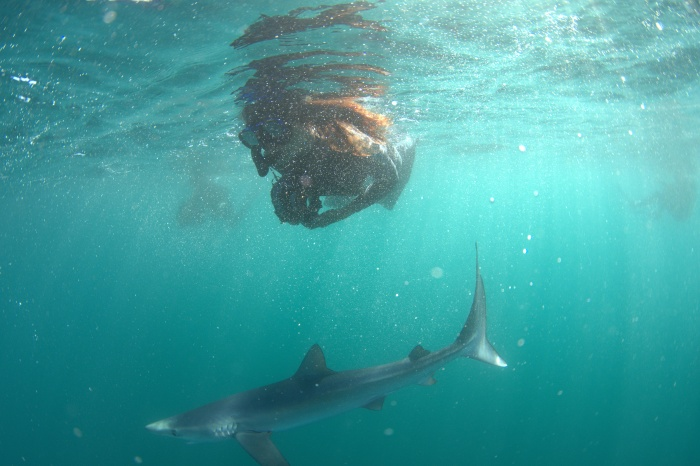Azul: (120, 230, 547, 466)
